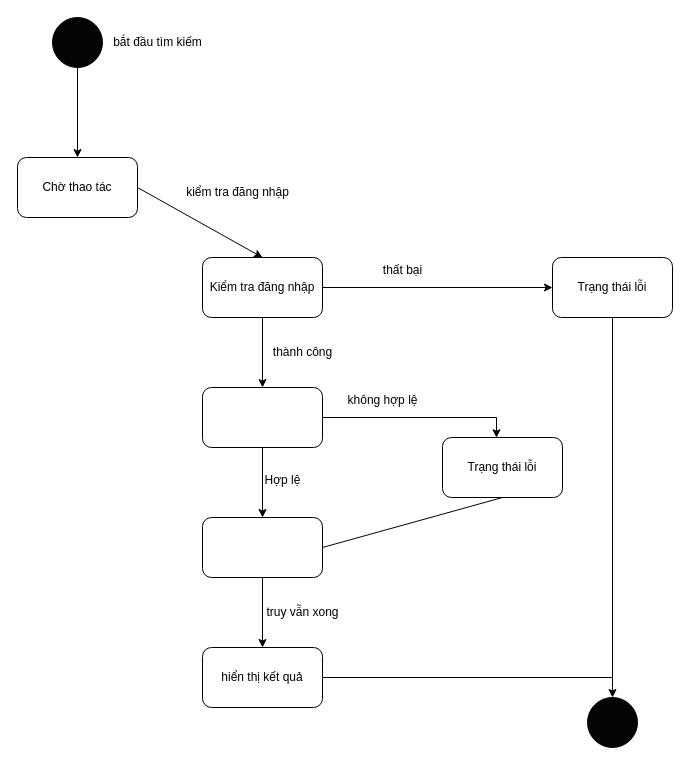
The diagram is 690 pixels wide and 765 high, and some of its shapes have lost their labels. The centre of each missing label's shape, as x and y in pixels:
Chờ người dùng nhập dữ liệu: (262,417)
Truy vấn cơ sở dữ liệu: (262,547)
